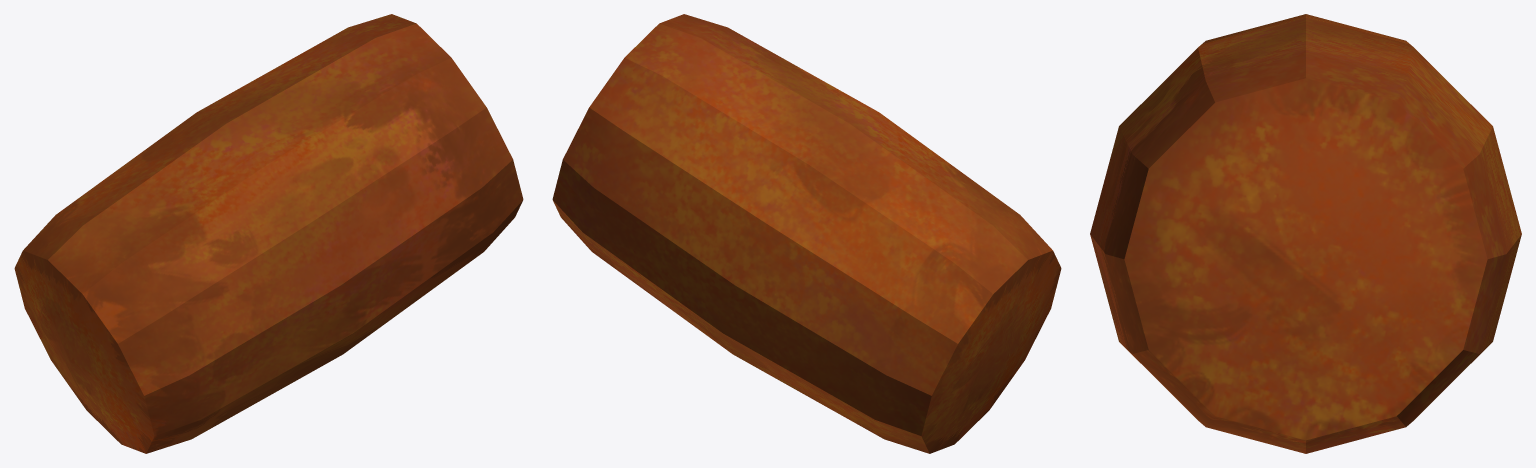
File: CROQUETA.fbx
3 views of the same model, side by side, from view 1: azimuth 30°, elevation 25°; view 2: azimuth 150°, elevation 25°; view 3: azimuth 270°, elevation 25° (orthographic). The views are drawn at different scales.
Visible parts, largest first — view 1: pDisc3; view 2: pDisc3; view 3: pDisc3.
Part boxes in pixels (bbox=[...]): pDisc3: bbox=[14, 14, 523, 453]; pDisc3: bbox=[552, 14, 1061, 453]; pDisc3: bbox=[1090, 14, 1521, 453].
Size of the model in its own units: 4.28 by 3.22 by 2.38.
